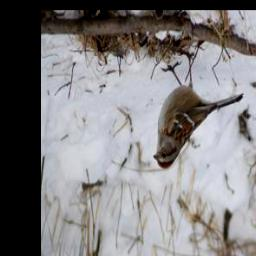Sparrow: (150, 47, 243, 174)
